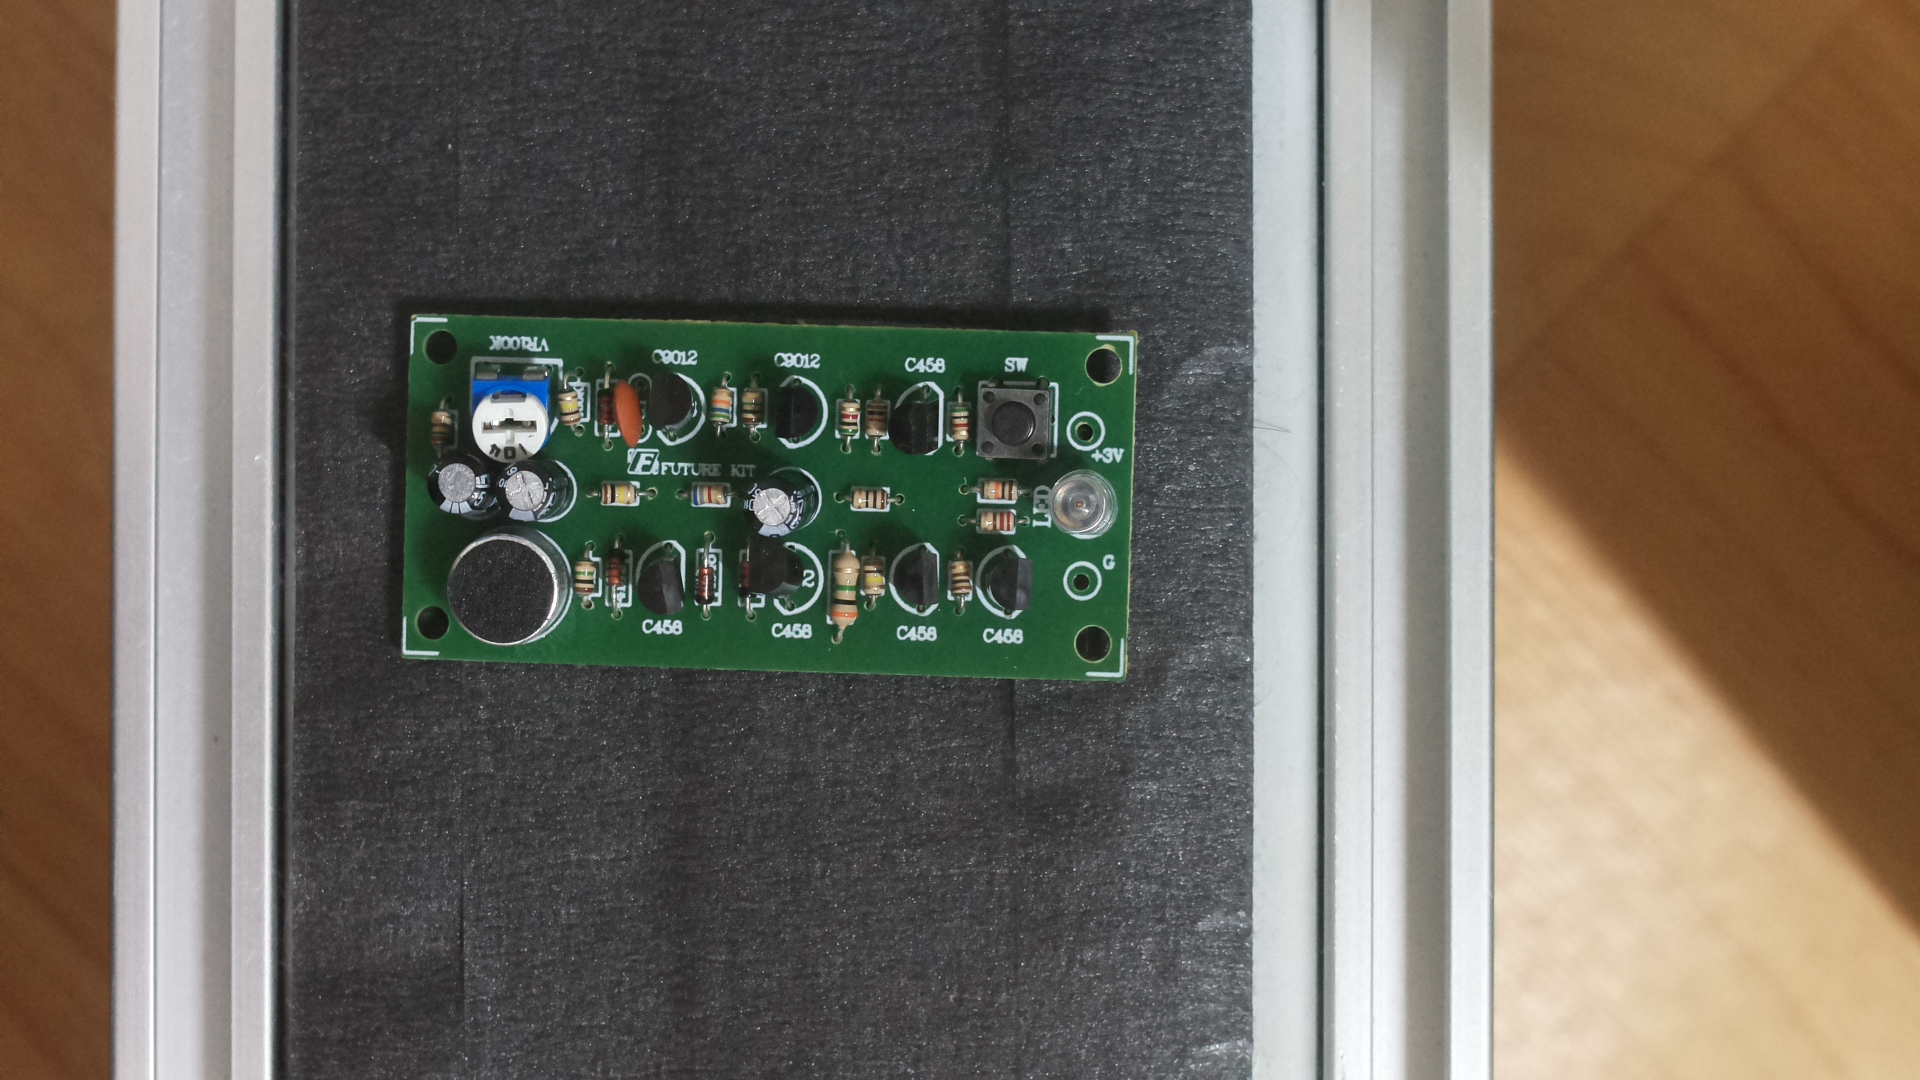A_Normal: (394, 294, 1153, 702)
